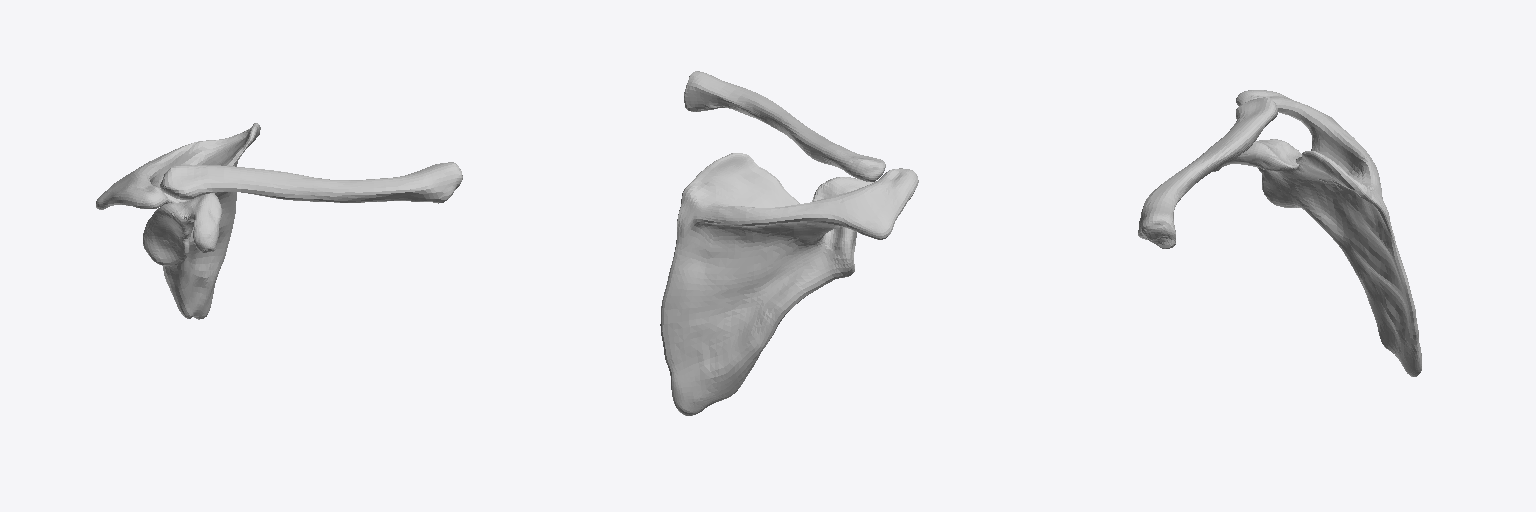
File: R_Shoulder.obj
The picture shows the model from 3 angles: view 1: azimuth 30°, elevation 25°; view 2: azimuth 150°, elevation 25°; view 3: azimuth 270°, elevation 25°; orthographic projection.
Bounding box in the file's own units: 18.93 × 14.66 × 16.58.